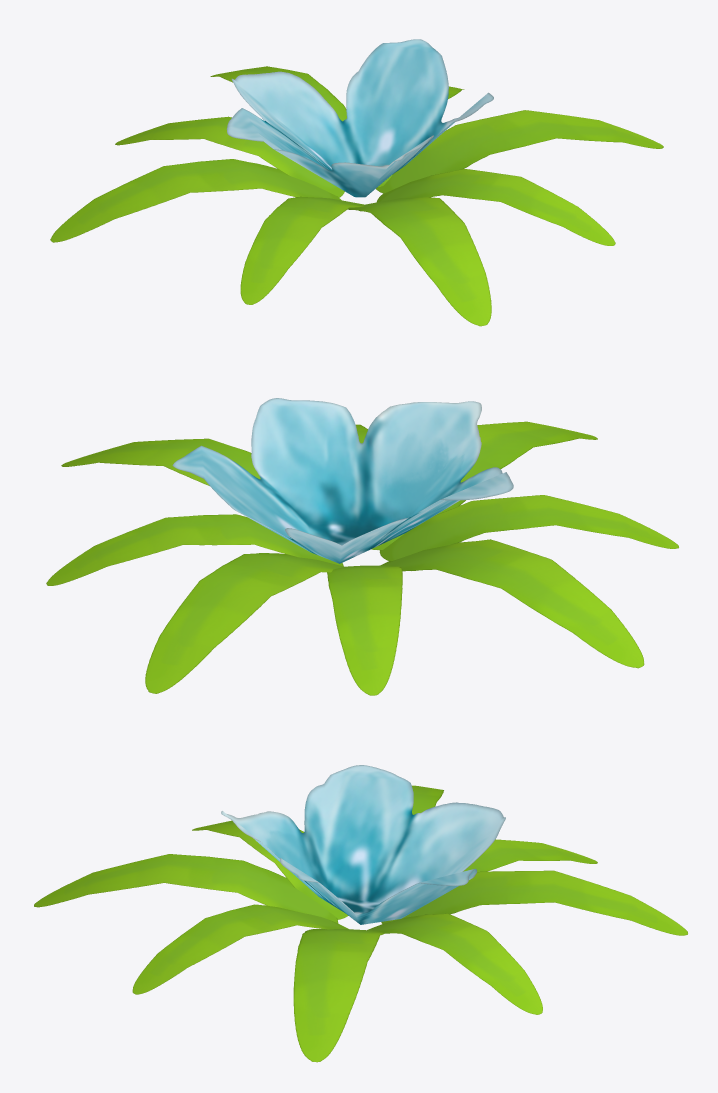
The model's file is bunga 6.fbx.
The picture shows the model from 3 angles, top to bottom: view 1: azimuth 30°, elevation 25°; view 2: azimuth 150°, elevation 25°; view 3: azimuth 270°, elevation 25°; orthographic projection. The views are drawn at different scales.
Visible parts, largest first — view 1: Bunga 6; view 2: Bunga 6; view 3: Bunga 6.
Part boxes in pixels (x1,y1,x2,y2): Bunga 6: (50, 39, 663, 326); Bunga 6: (46, 398, 678, 695); Bunga 6: (34, 765, 687, 1062).
Size of the model in its own units: 265 by 46.59 by 264.
Materials: 1 (1 with a texture image).
